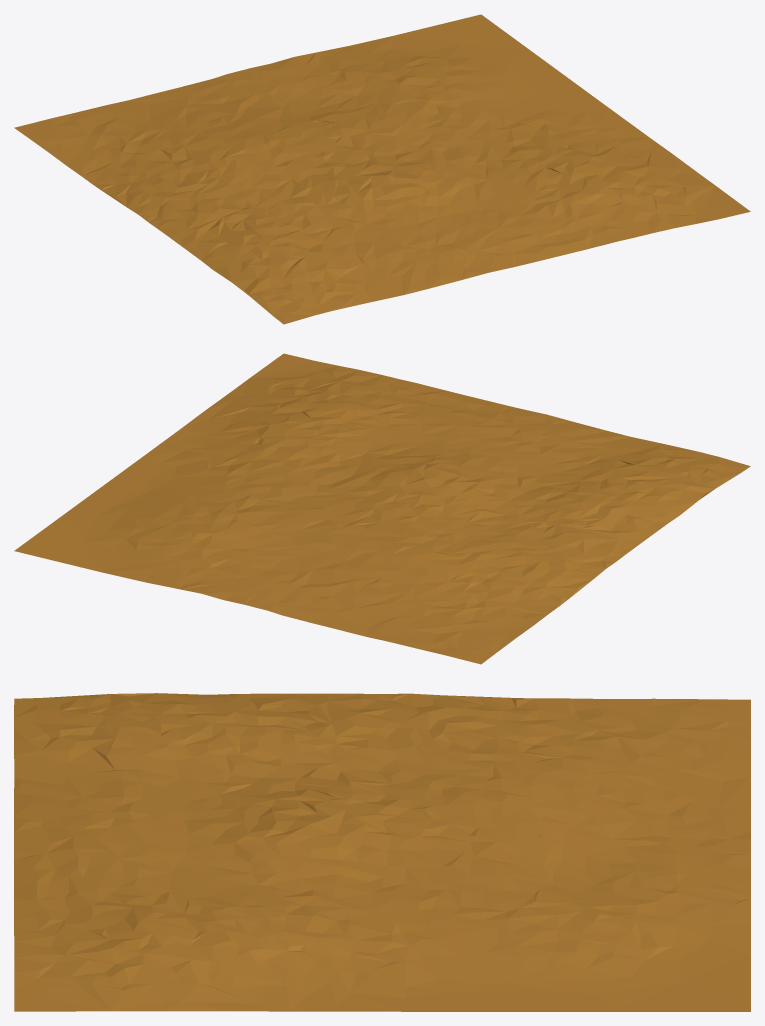
The picture shows the model from 3 angles, top to bottom: view 1: azimuth 30°, elevation 25°; view 2: azimuth 150°, elevation 25°; view 3: azimuth 270°, elevation 25°; orthographic projection. The views are drawn at different scales.
Visible parts, largest first — view 1: plane; view 2: plane; view 3: plane.
Part boxes in pixels (bbox=[...]): plane: bbox=[14, 14, 750, 324]; plane: bbox=[14, 353, 750, 664]; plane: bbox=[14, 693, 750, 1011].
Size of the model in its own units: 118 by 4.03 by 118.
